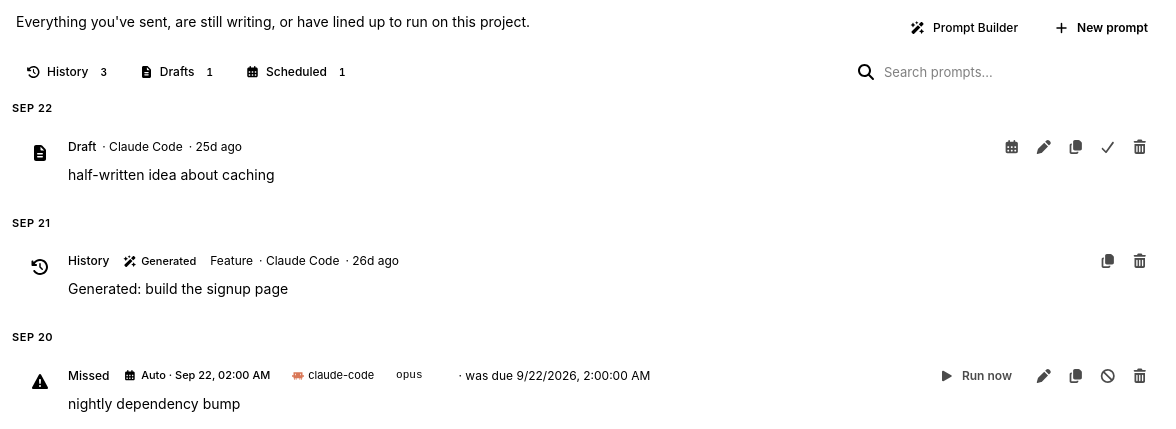
Test: ProjectPrompts › narrows each view to its own kind and filters by search
Check: the text "Generated: build the signup page" is shown, box [68, 280, 288, 297]
Click the button "Drafts 1".
click(179, 72)  # box [127, 58, 231, 86]
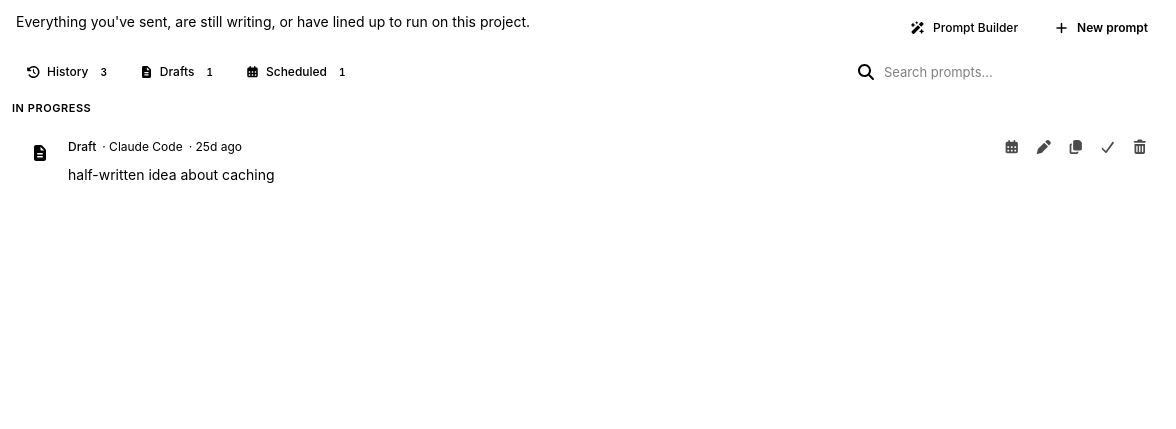
Check: the text "half-written idea about caching" is shown, box [68, 166, 275, 182]
Check: the text "Generated: build the signup page" is gone
Click the button "Scheduled 1".
click(298, 72)  # box [233, 58, 364, 86]
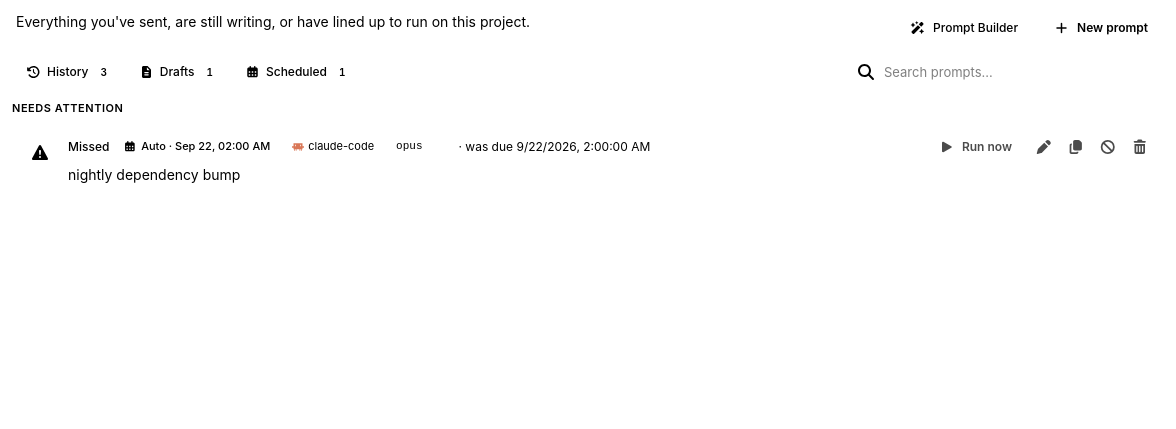
Check: the heading "Needs attention" is shown, box [12, 101, 124, 115]
Check: the text "nightly dependency bump" is shown, box [68, 166, 240, 182]
Type "nothing like this" into the field with placeholder "Search prompts…".
click(1022, 72); type("nothing like this")  # box [884, 56, 1160, 88]
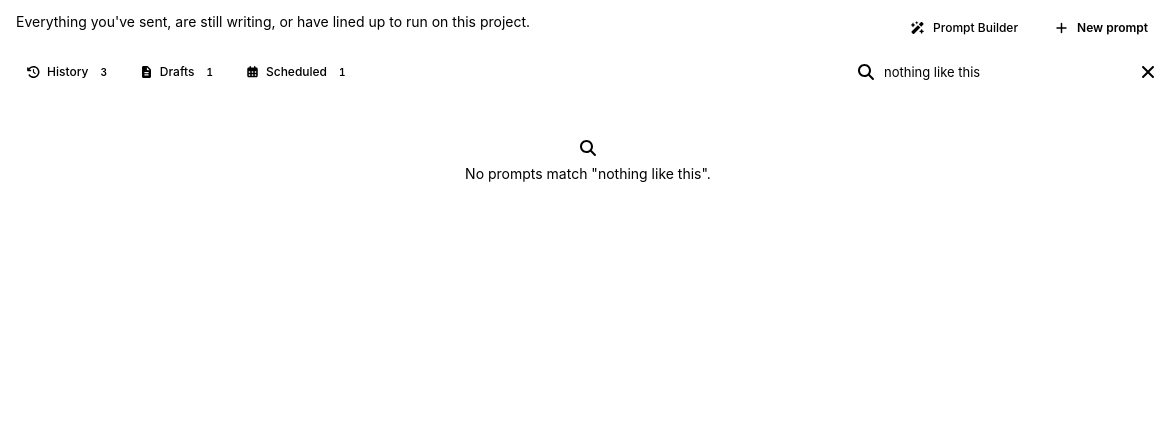
Check: the text "No prompts match \"nothing like this\"." is shown, box [465, 164, 711, 184]
